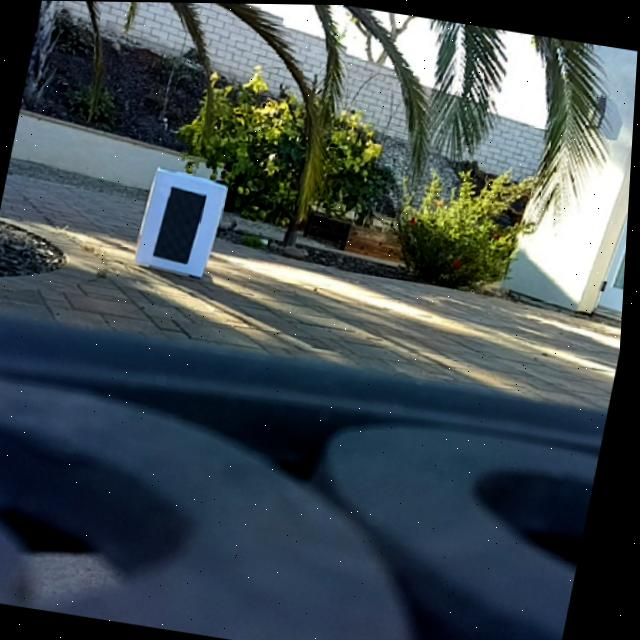led: (155, 183, 212, 268)
